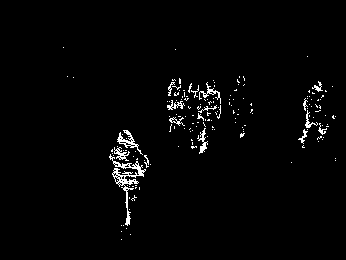person: (110, 129, 149, 228), (199, 77, 223, 157), (230, 74, 254, 141), (302, 78, 321, 149), (183, 80, 201, 153), (166, 75, 185, 141)
